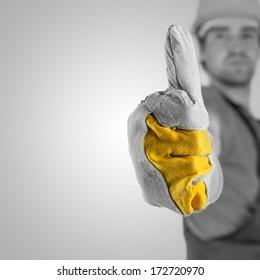gloves: (126, 26, 224, 215)
